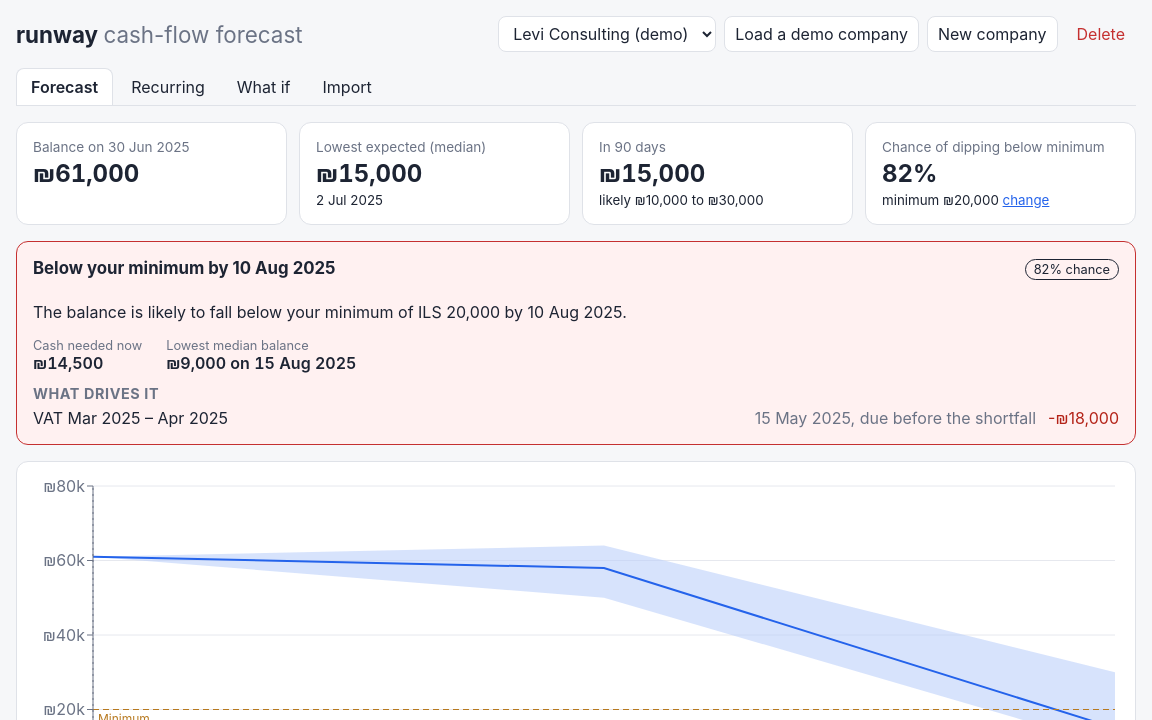
Test case: App › loads the first company and shows its forecast
Expected: the heading "Below your minimum by 10 Aug 2025" is shown, [33,258,336,278]
Click the tab "Recurring": (168, 86) [117,68,219,105]
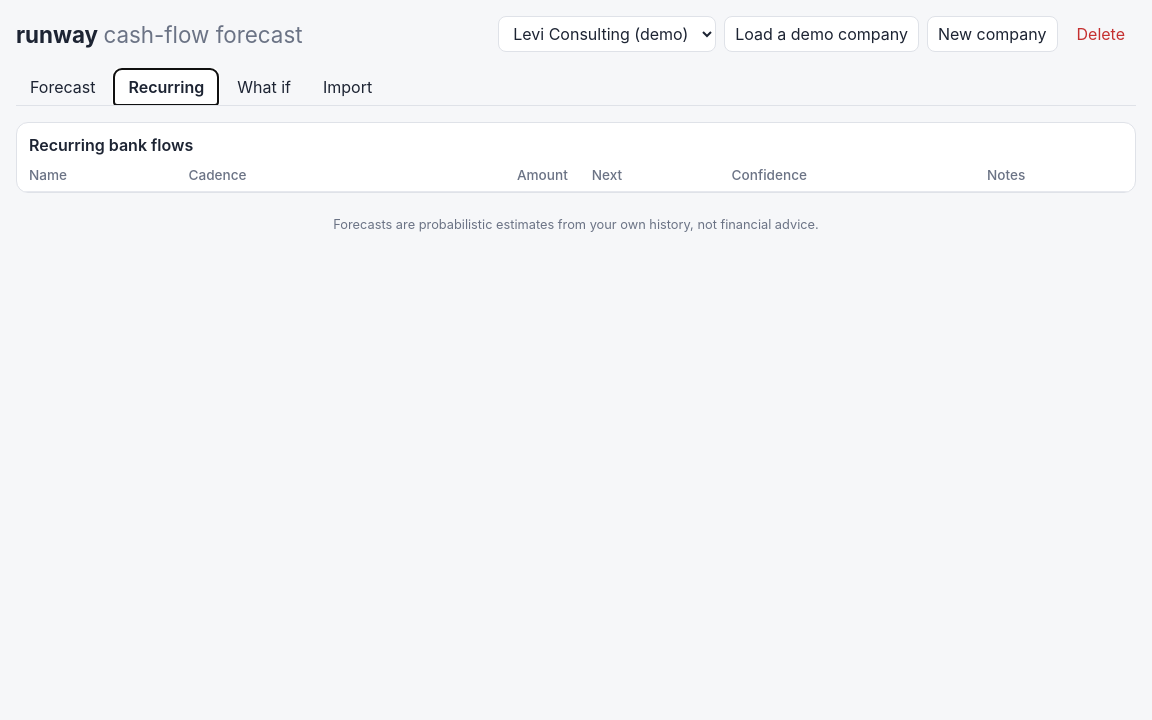
Expected: the text "Recurring bank flows" is shown, [29,135,193,155]
